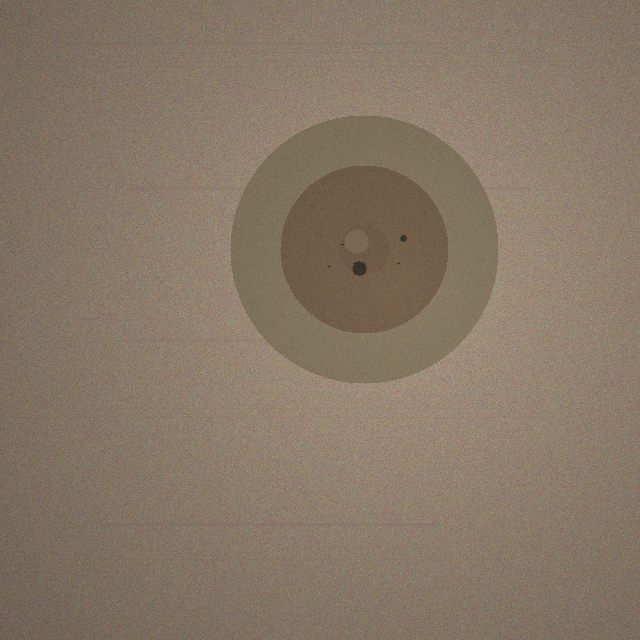shrinkage: (230, 115, 498, 383)
